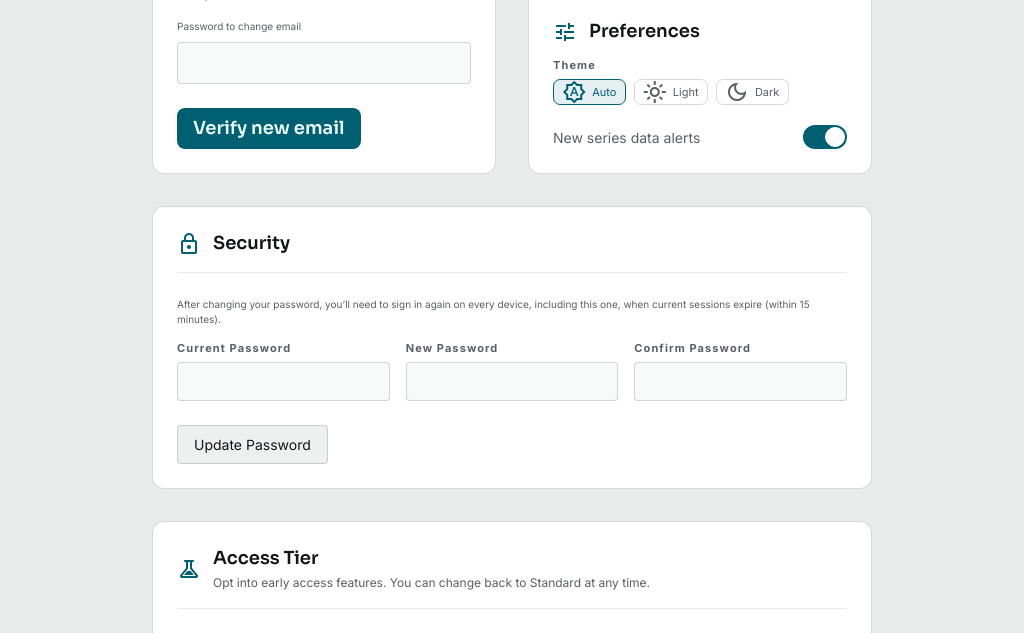
it: SettingsPage › shows a server error when api.changePassword fails
(page scrolled)
Type "wrongpass" into the password field labelled "Current Password" at (283, 382), box [177, 362, 390, 401]
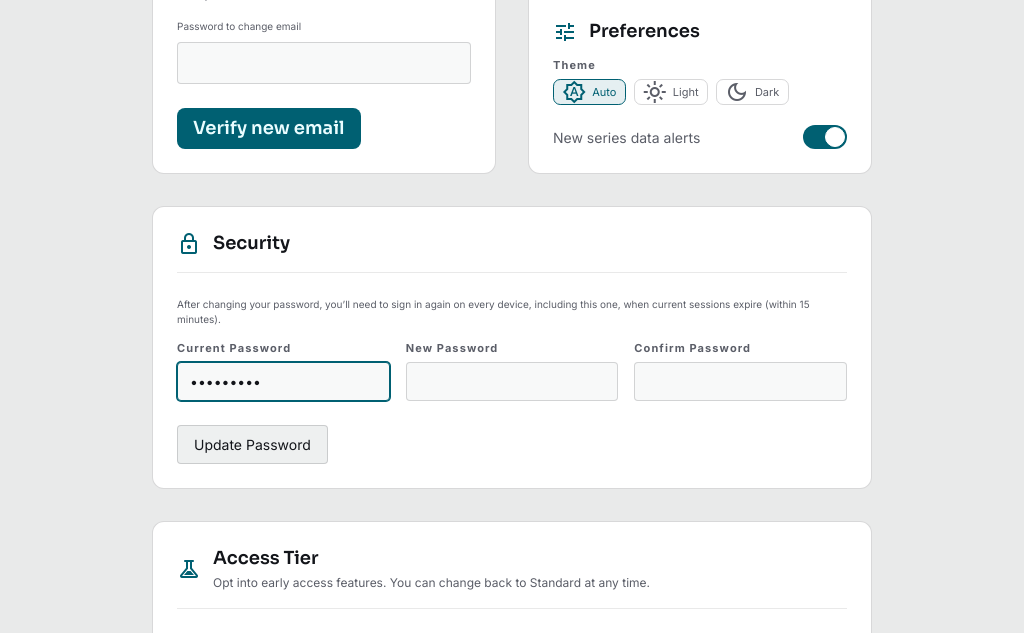
Type "newpass2" into the password field labelled "New Password" at (512, 382), box [406, 362, 618, 401]
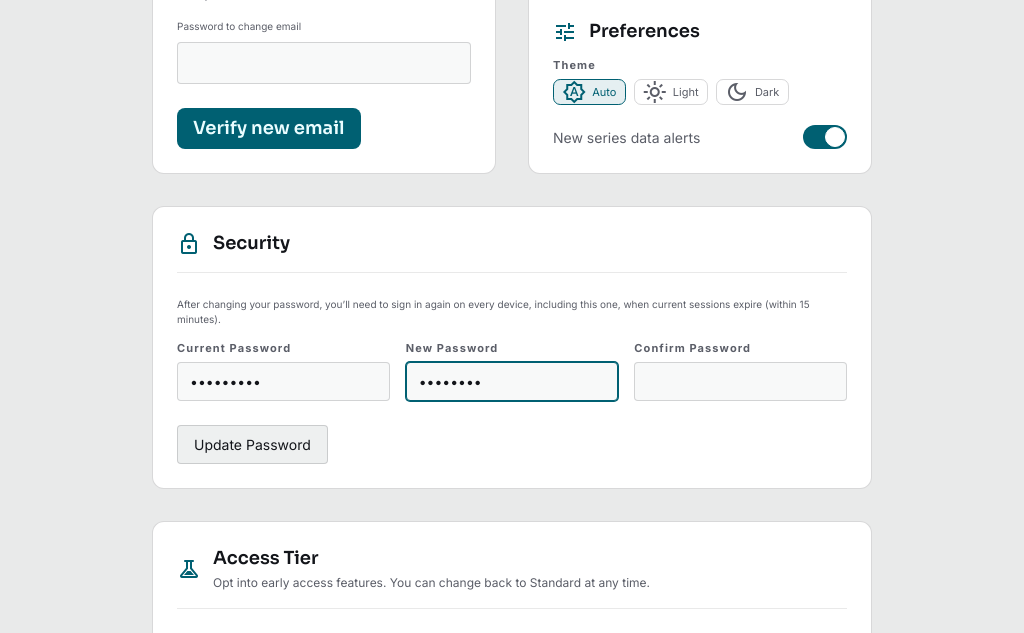
Type "newpass2" into the password field labelled "Confirm Password" at (741, 382), box [634, 362, 847, 401]
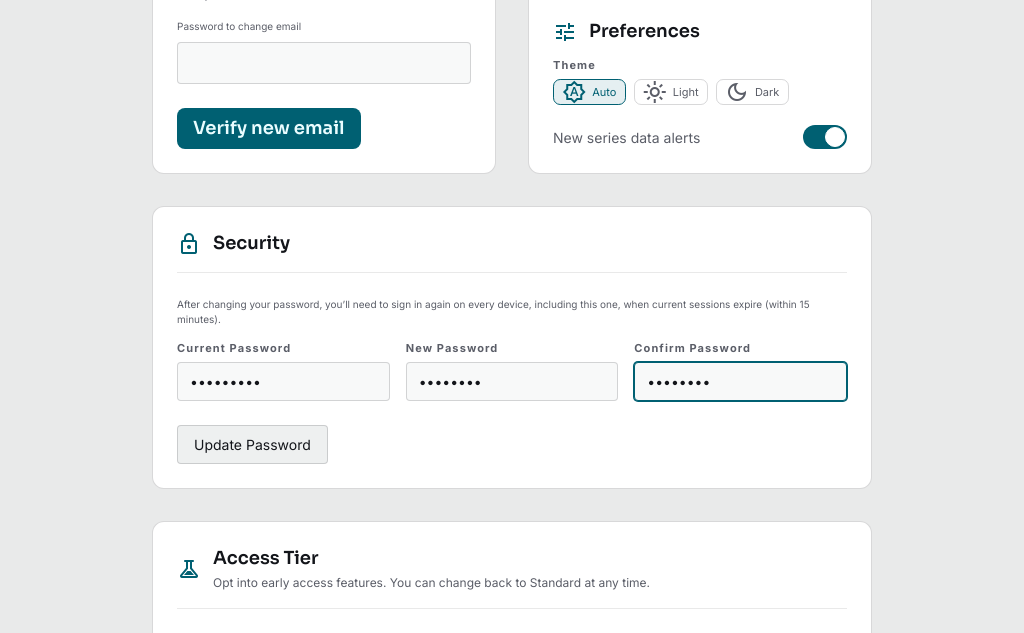
Click the button "Update Password" at (252, 445), box [177, 425, 328, 464]
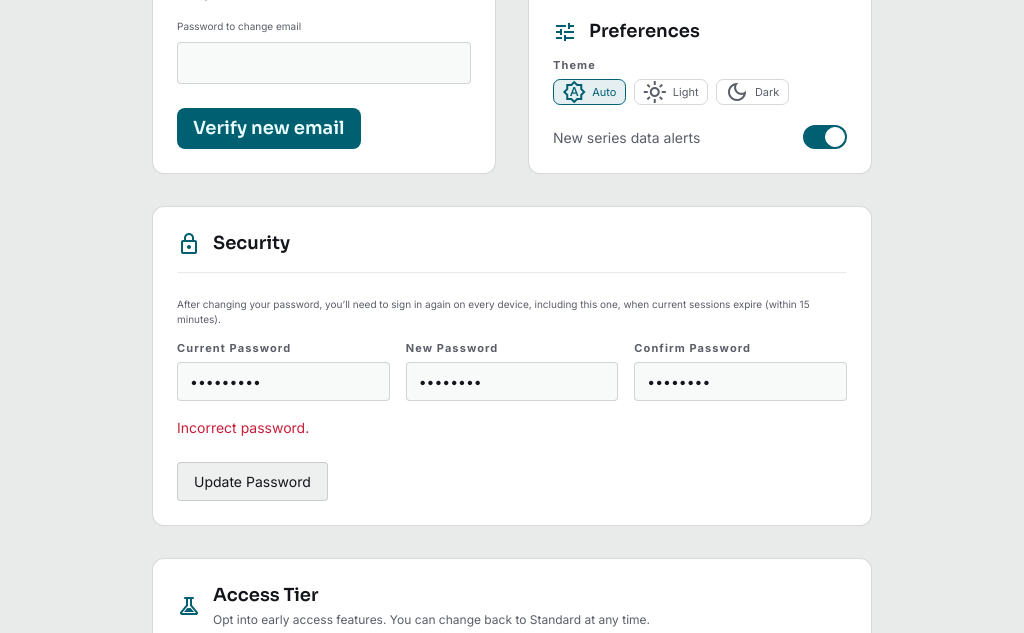
Now the text "Incorrect password." is shown, box [177, 419, 309, 436]
